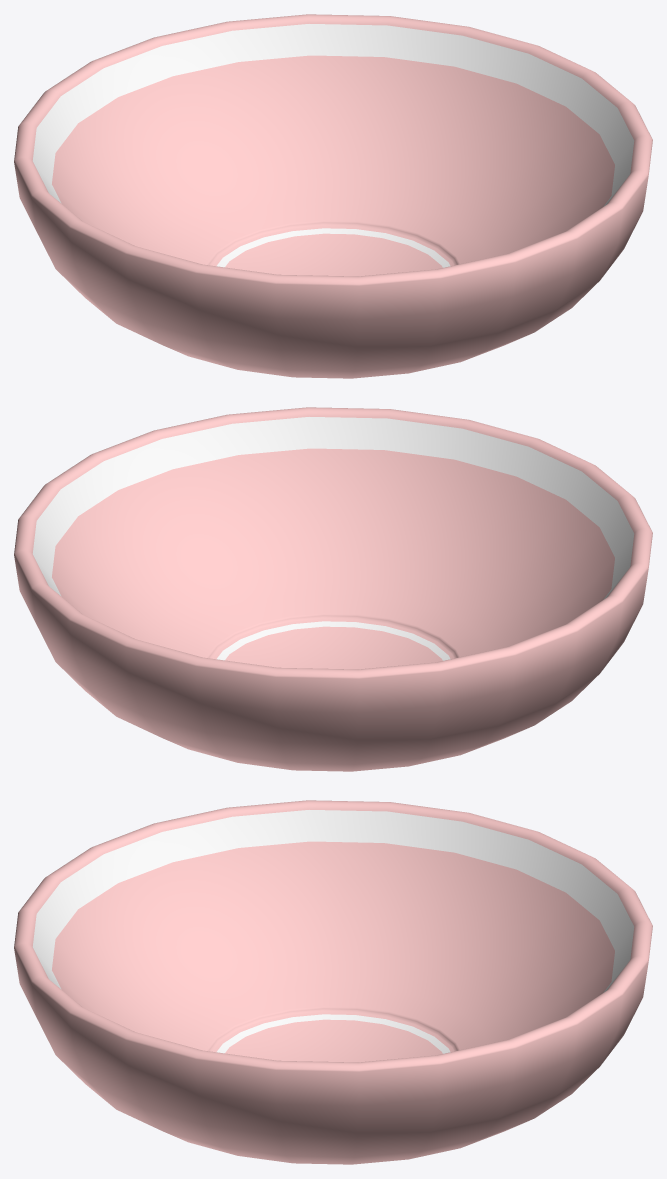
The picture shows the model from 3 angles, top to bottom: view 1: azimuth 30°, elevation 25°; view 2: azimuth 150°, elevation 25°; view 3: azimuth 270°, elevation 25°; orthographic projection.
Visible parts, largest first — view 1: mesh1-geometry-1, mesh1-geometry-2; view 2: mesh1-geometry-1, mesh1-geometry-2; view 3: mesh1-geometry-1, mesh1-geometry-2.
Part boxes in pixels (bbox=[...]): mesh1-geometry-1: bbox=[14, 14, 652, 378]; mesh1-geometry-2: bbox=[32, 24, 634, 267]; mesh1-geometry-1: bbox=[14, 407, 652, 771]; mesh1-geometry-2: bbox=[32, 417, 634, 660]; mesh1-geometry-1: bbox=[14, 800, 652, 1164]; mesh1-geometry-2: bbox=[32, 810, 634, 1053].
Size of the model in its own units: 0.6952 by 0.1828 by 0.6952.
